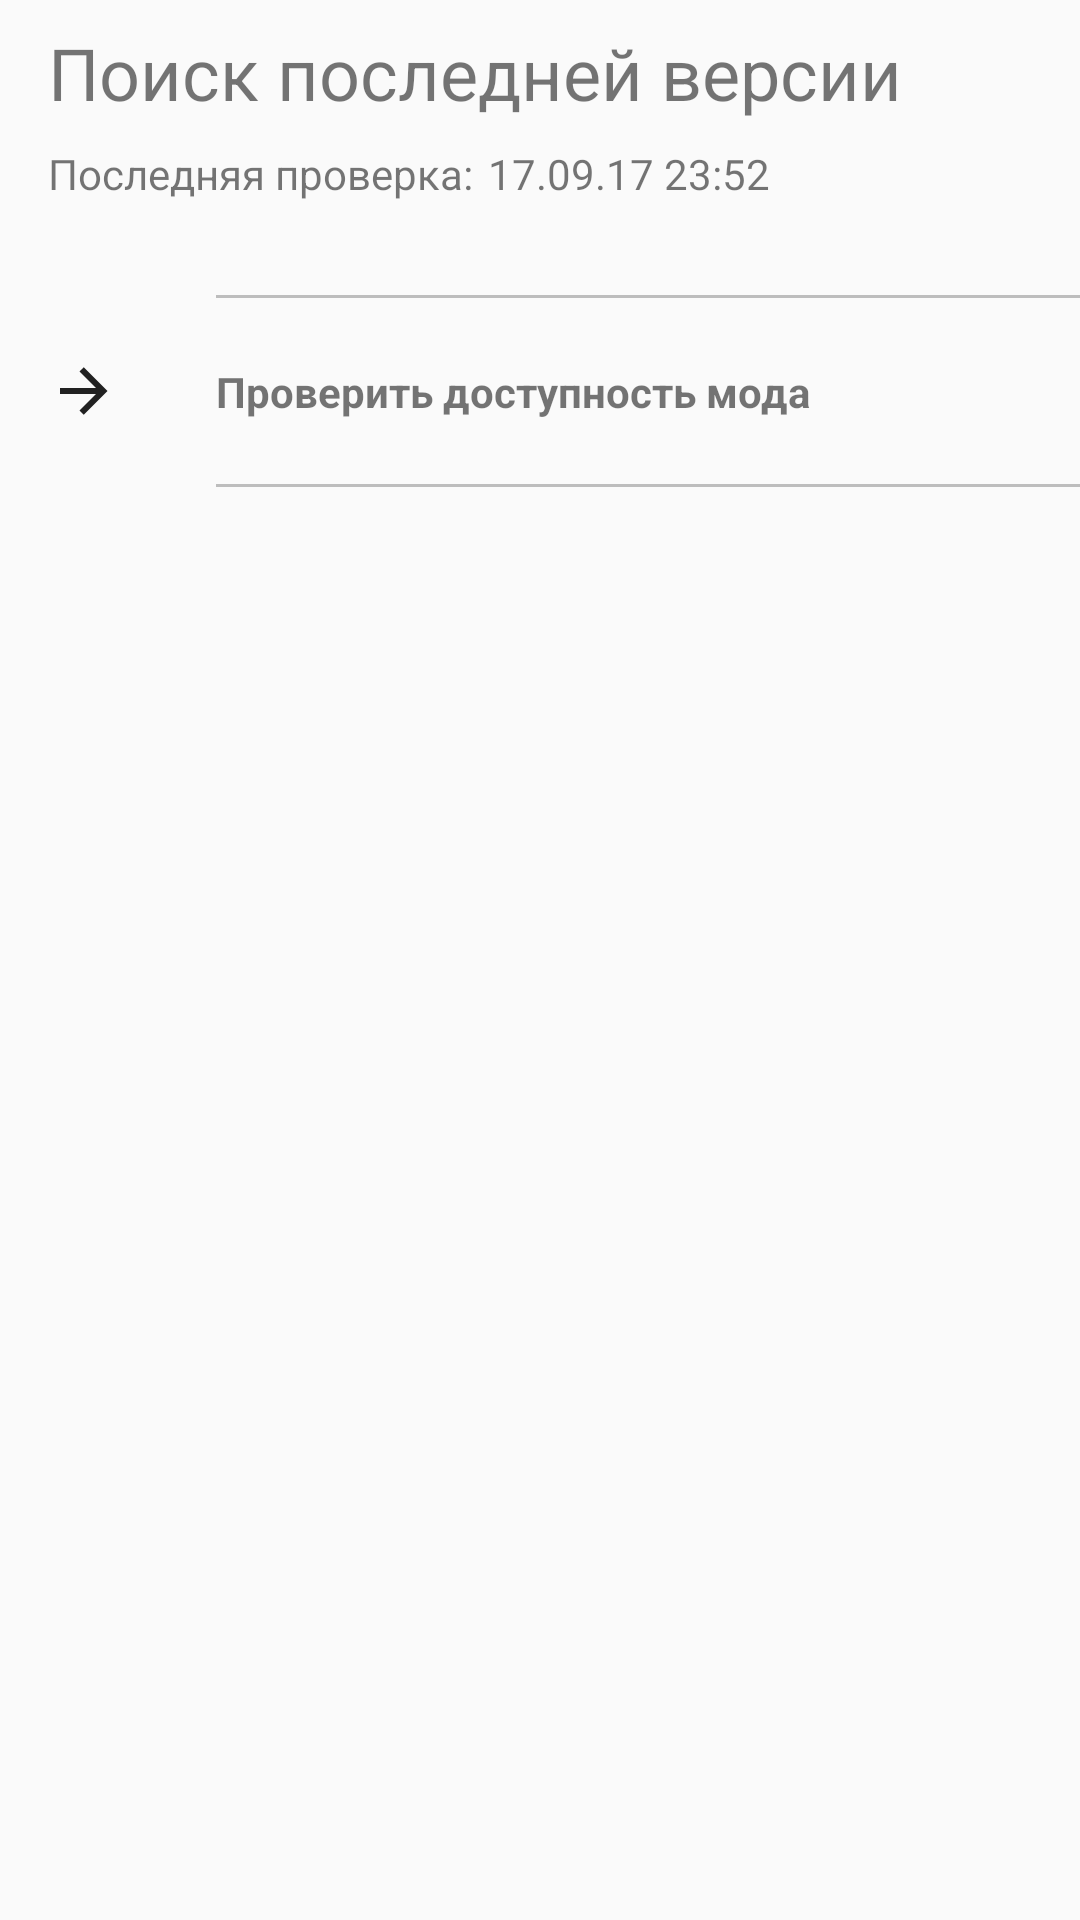

Screen size 1080 x 1920. Icon name, then its center in pixels as (x=x, y=y):
arrow right: (x=84, y=391)
